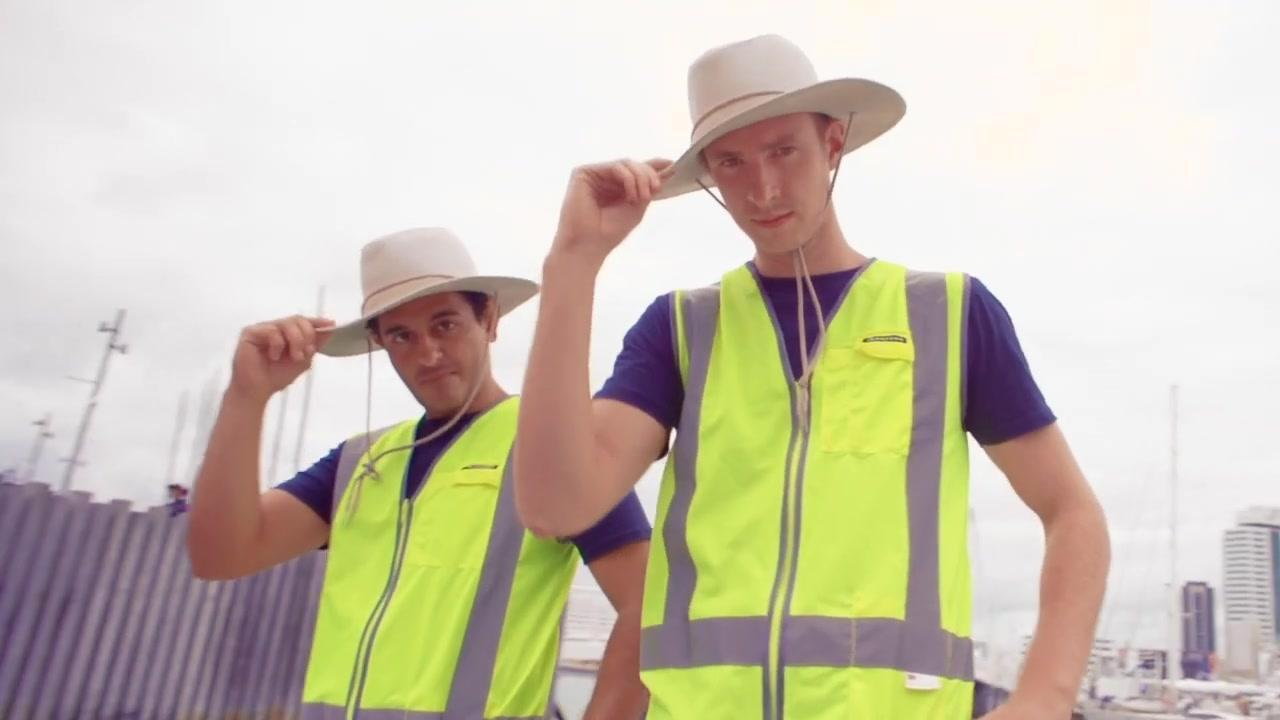vest: (633, 258, 981, 718), (298, 391, 581, 717)
